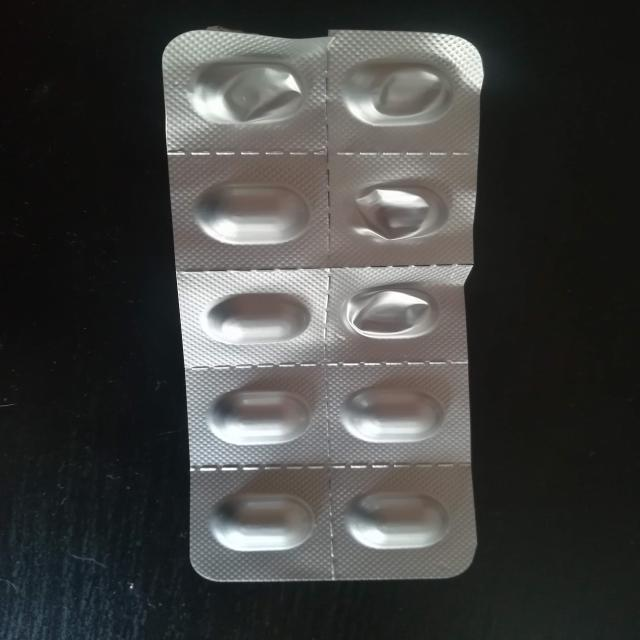Empty: (172, 53, 316, 137), (331, 52, 467, 132), (329, 276, 449, 355), (338, 181, 462, 250)
Pill: (198, 479, 325, 558), (192, 178, 322, 252), (193, 378, 327, 448), (190, 282, 318, 353), (331, 376, 452, 448), (339, 479, 452, 556)
